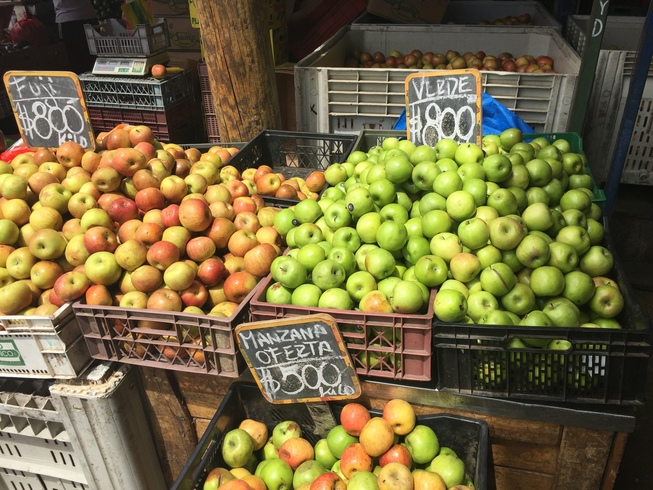precio: (228, 297, 375, 418), (394, 64, 496, 162), (1, 64, 98, 164)
